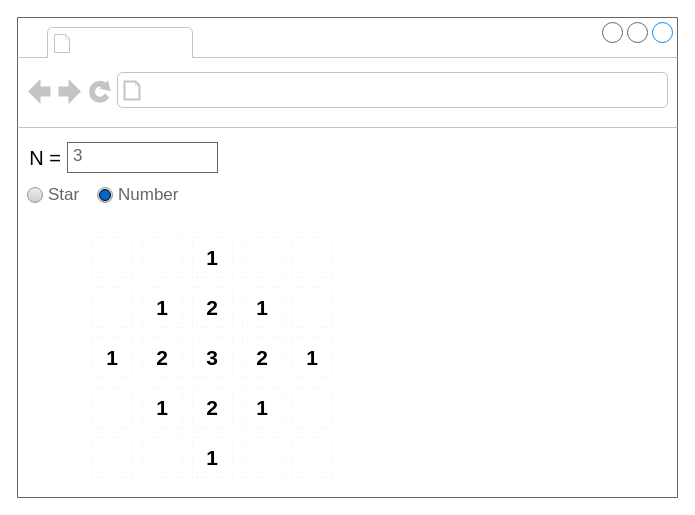
Some shapes in this 695 by 515 pixel diagram are drawn without their labels. The box of each missing label's shape, as (x1, y1, x2, y2) in pixels:
Diamond App: (76, 28, 188, 56)
https://diamond-app.test: (146, 76, 398, 104)
